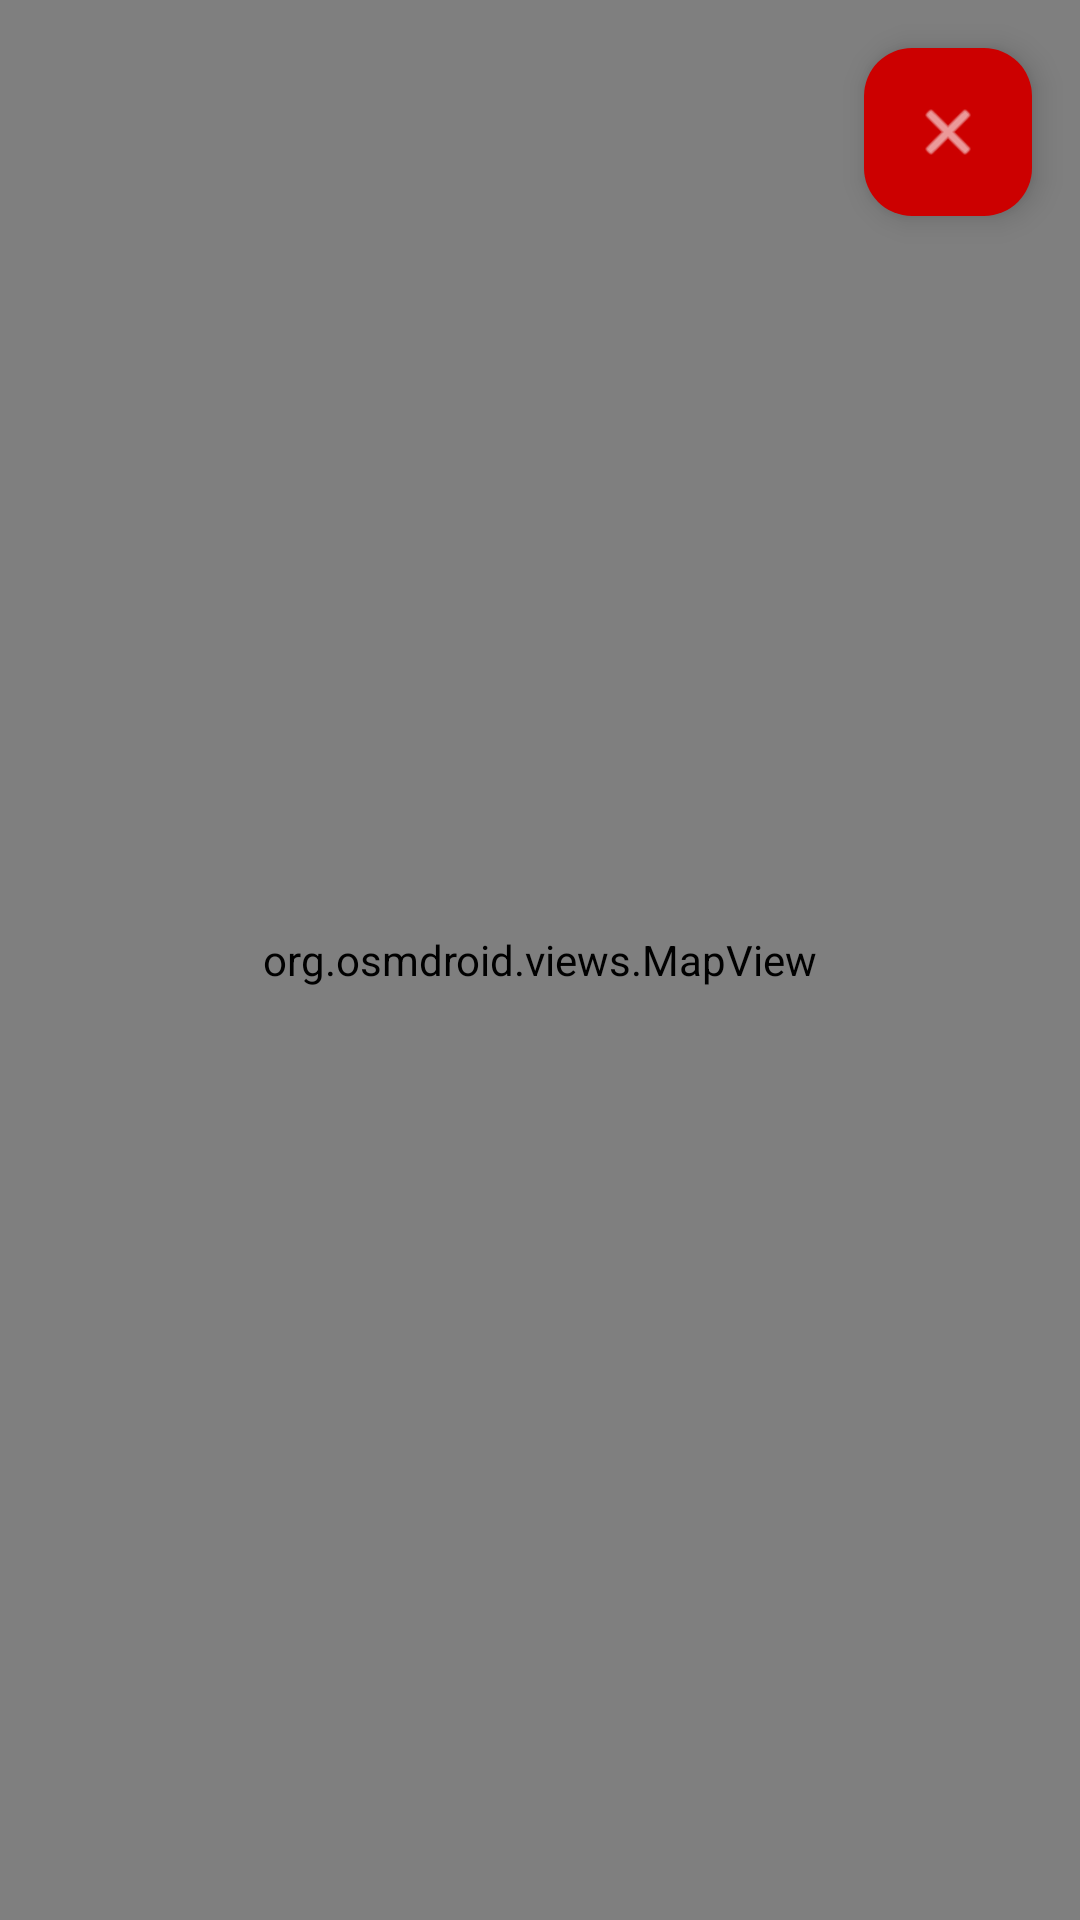

Screen size 1080×1920. Icon name, then its box in pixels as [x1=x1, y1=y1, x2=x2, y2=y2]:
close clear cancel: [x1=864, y1=48, x2=1032, y2=216]
